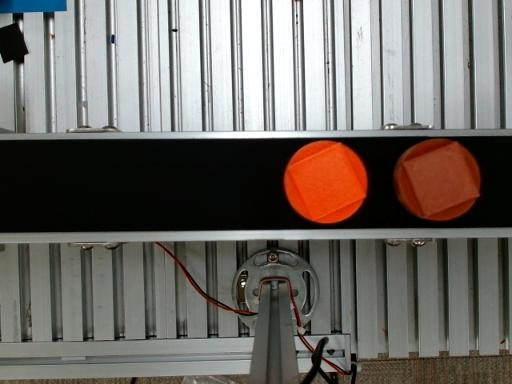Square: (287, 142, 367, 222), (402, 141, 481, 218)
